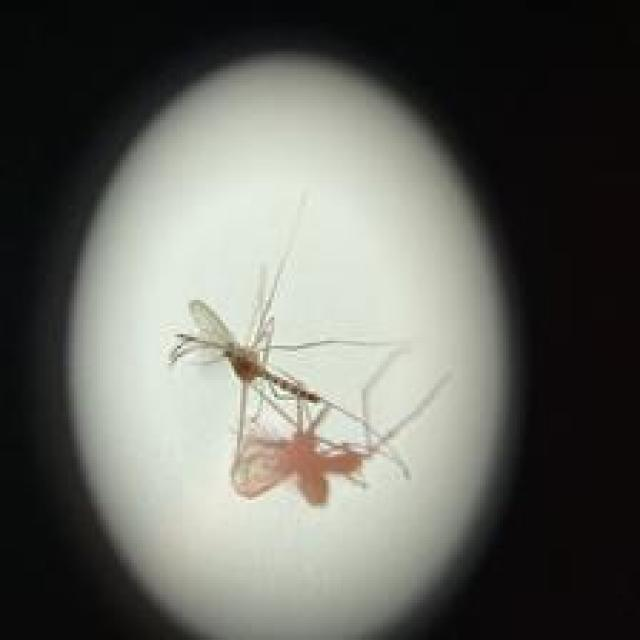Culex: (164, 191, 453, 506)
